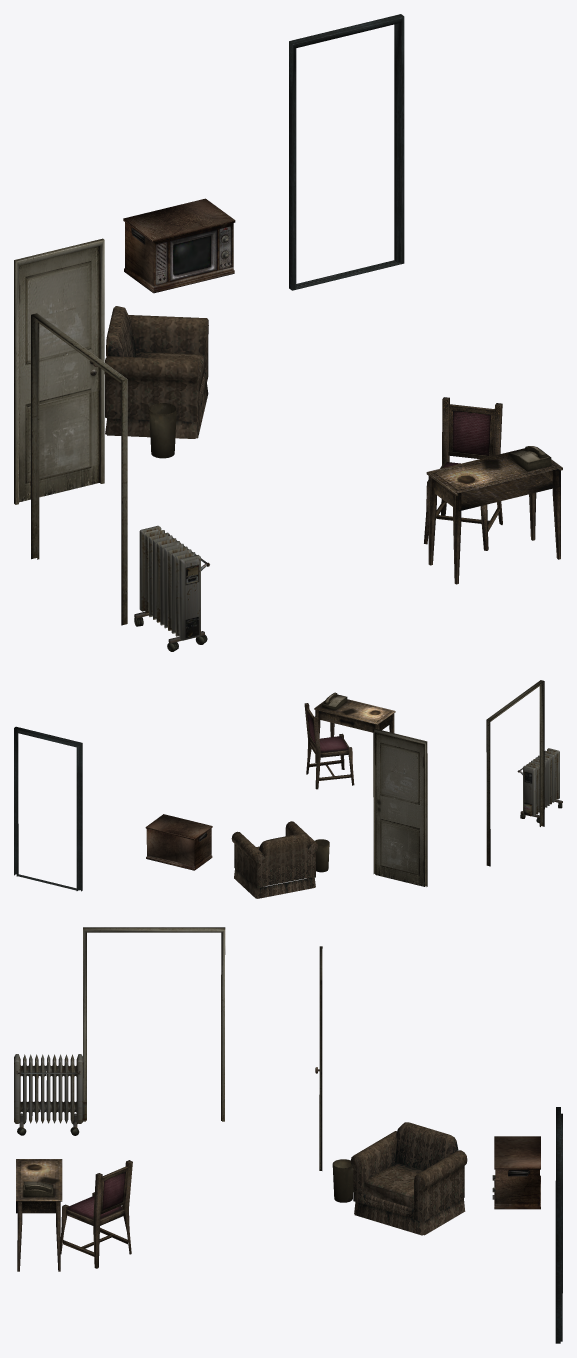
The model's file is Room1.obj.
The picture shows the model from 3 angles, top to bottom: view 1: azimuth 30°, elevation 25°; view 2: azimuth 150°, elevation 25°; view 3: azimuth 270°, elevation 25°; orthographic projection. The views are drawn at different scales.
Visible parts, largest first — view 1: Room1; view 2: Room1; view 3: Room1.
Boxes of the visible parts, x1,y1,x2,y2 form: Room1: (14,14,562,651); Room1: (14,680,562,898); Room1: (14,927,562,1343).
Bounding box in the file's own units: 56.15 × 22.69 × 58.22.
